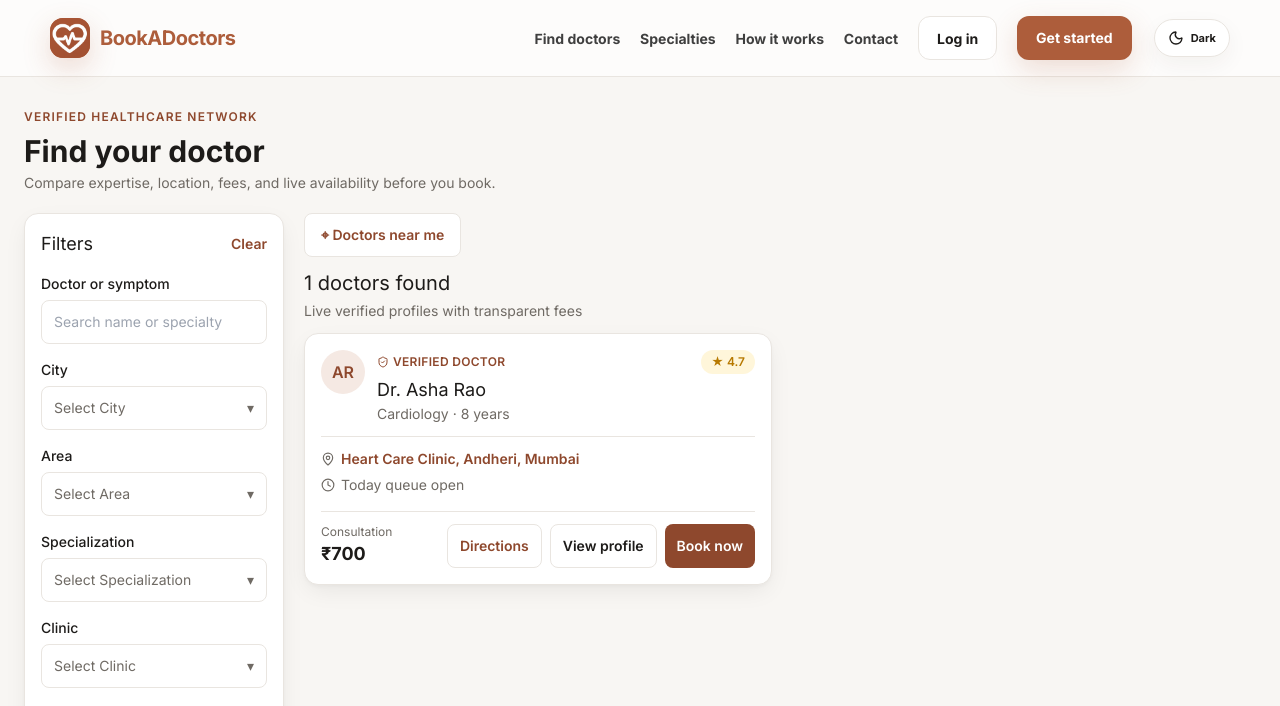
SearchResults › keeps the nearest clinic selected when opening a doctor profile
Click the button "⌖ Doctors near me".
click(383, 235)  # box [304,213,461,257]
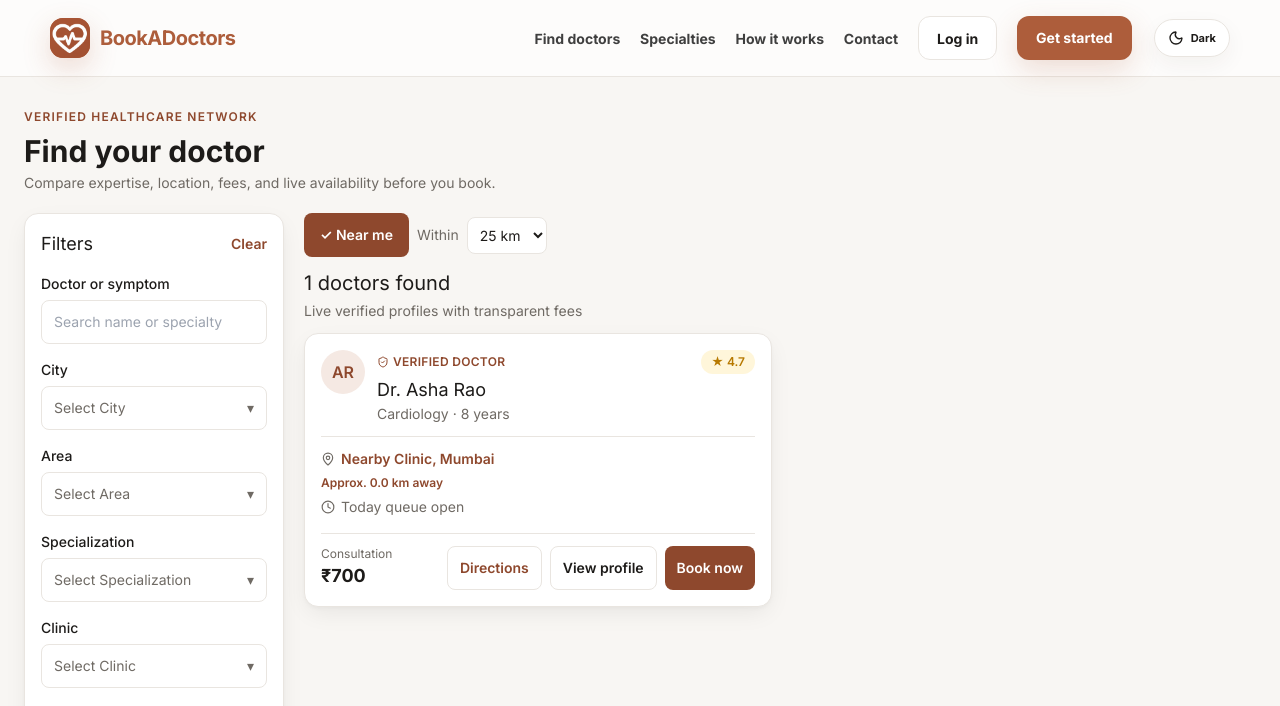
Now the link "Nearby Clinic, Mumbai" is shown, box [341,449,494,469]
